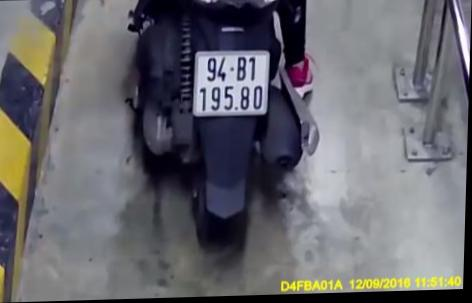LP: (191, 47, 273, 121)
